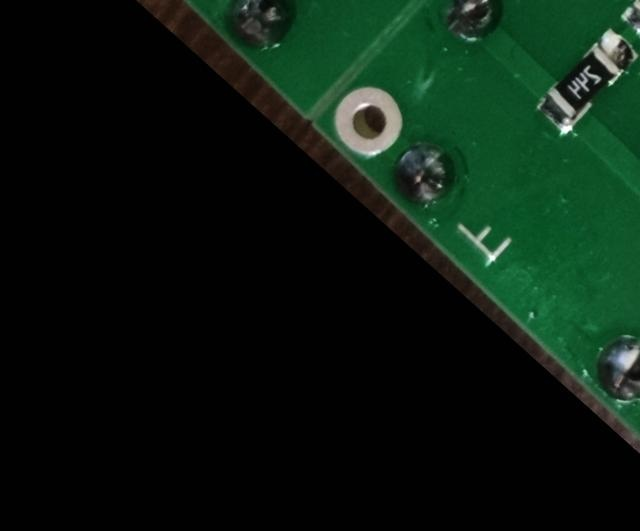chip-resistor: (529, 21, 640, 139)
